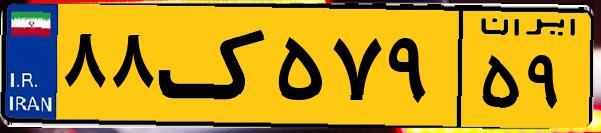5: (270, 28, 330, 110), (475, 38, 525, 113)
7: (330, 28, 385, 110)
8: (57, 26, 110, 100), (110, 28, 158, 98)
9: (385, 28, 445, 110), (525, 38, 570, 115)
ک: (158, 12, 270, 120)
